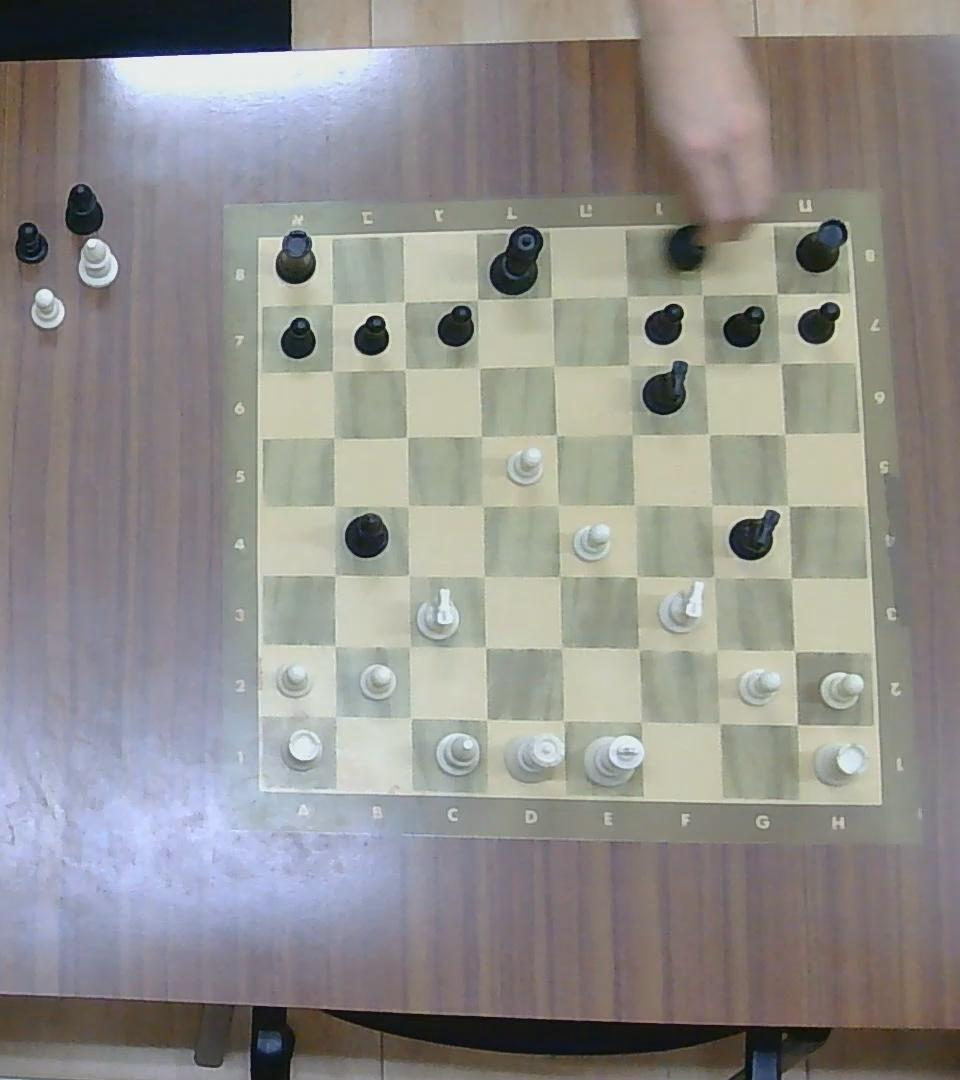xcorner: (701, 705, 735, 738), (622, 631, 654, 664), (545, 631, 577, 664), (624, 704, 656, 736), (780, 706, 812, 738), (547, 704, 578, 736), (470, 703, 501, 734), (700, 634, 731, 665), (394, 701, 424, 732), (319, 700, 350, 730), (778, 636, 809, 666), (776, 561, 806, 592), (470, 631, 500, 661), (621, 562, 651, 591), (545, 560, 574, 590), (393, 631, 423, 660), (698, 562, 728, 591), (469, 562, 498, 591), (393, 561, 423, 589), (543, 490, 572, 518), (320, 630, 349, 658), (617, 419, 645, 448), (468, 490, 495, 518), (320, 560, 348, 587), (393, 491, 421, 518), (773, 491, 801, 518), (543, 420, 570, 447), (698, 491, 725, 518), (467, 420, 493, 447), (622, 489, 648, 516), (614, 282, 641, 308), (538, 284, 566, 309), (540, 351, 566, 377), (772, 420, 798, 446), (319, 422, 345, 448), (616, 351, 642, 377), (318, 291, 345, 316), (394, 422, 419, 448), (319, 356, 344, 382), (323, 491, 348, 517), (696, 420, 721, 446), (690, 283, 715, 307), (768, 350, 793, 374), (465, 286, 490, 310), (765, 281, 790, 305), (691, 350, 715, 374), (466, 354, 490, 378), (391, 356, 415, 379), (391, 290, 415, 313)
